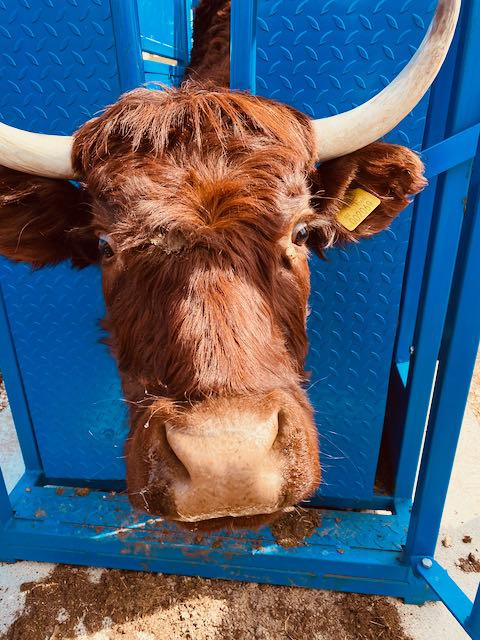muzzles: (112, 412, 336, 540)
